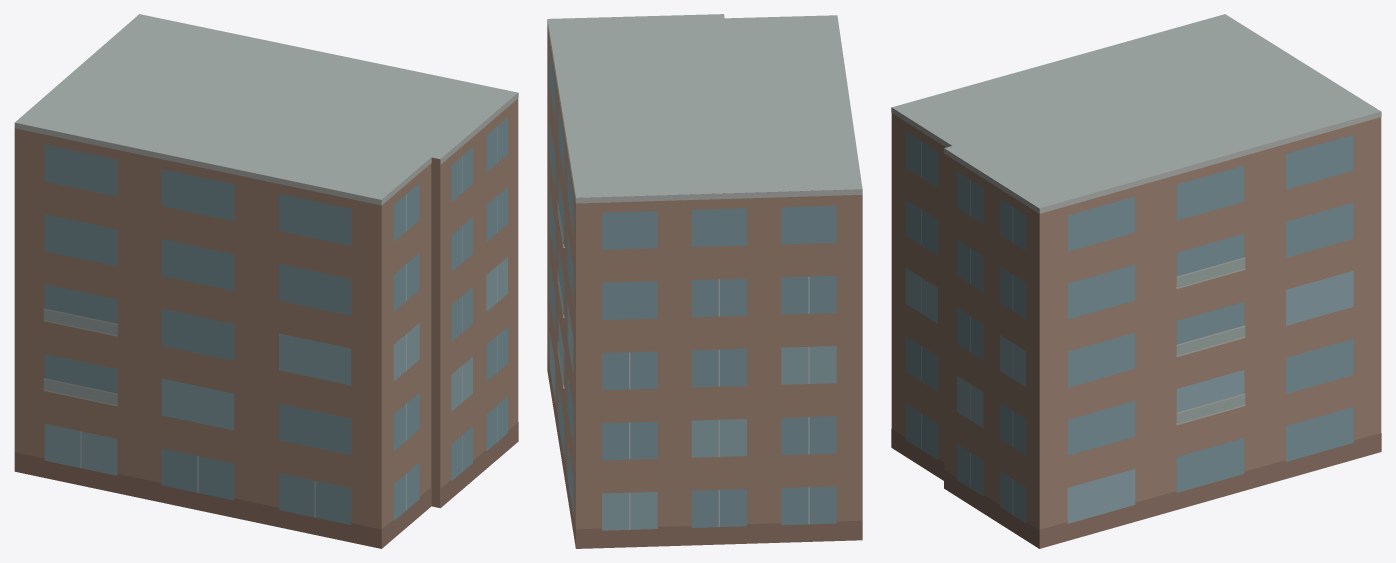
File: survey-upis-32717673.glb
The picture shows the model from 3 angles, left to right: view 1: azimuth 30°, elevation 25°; view 2: azimuth 150°, elevation 25°; view 3: azimuth 270°, elevation 25°; orthographic projection. The views are drawn at different scales.
Visible parts, largest first — view 1: survey-upis-32717673.tmp; view 2: survey-upis-32717673.tmp; view 3: survey-upis-32717673.tmp.
Part boxes in pixels (box(x1,y1,x2,y2)): survey-upis-32717673.tmp: box(14, 14, 518, 548); survey-upis-32717673.tmp: box(547, 14, 862, 548); survey-upis-32717673.tmp: box(891, 14, 1381, 548).
Size of the model in its own units: 18.7 by 15.25 by 19.9.
